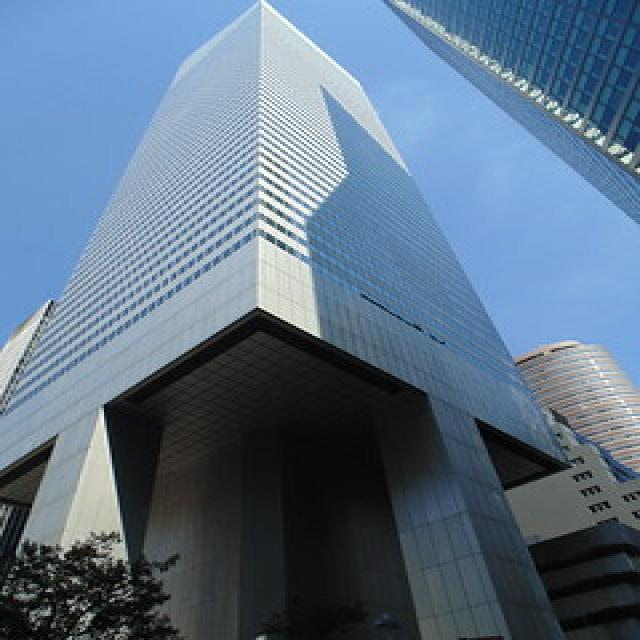Normal_building: (11, 0, 634, 638)
